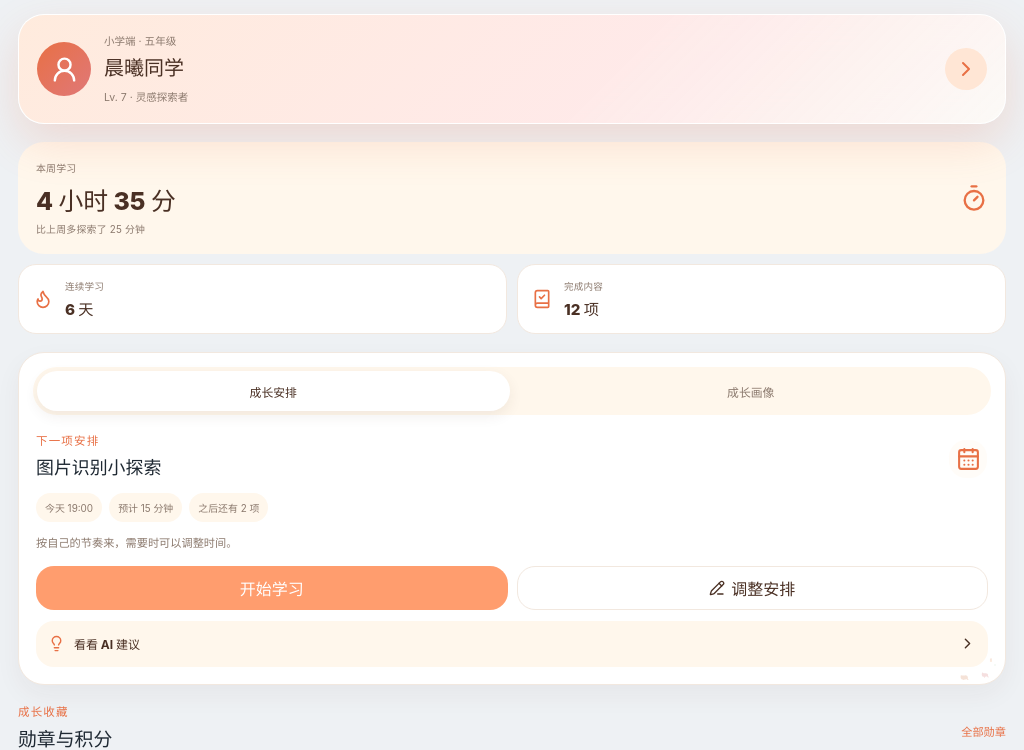
profile dashboard › contains every approved profile module in the agreed order
Check: the heading "晨曦同学" is shown, box [104, 56, 184, 80]
Check: the text "本周学习" is shown, box [36, 162, 76, 174]
Click the button "成长画像".
click(751, 391)  # box [514, 371, 987, 411]
(page scrolled)
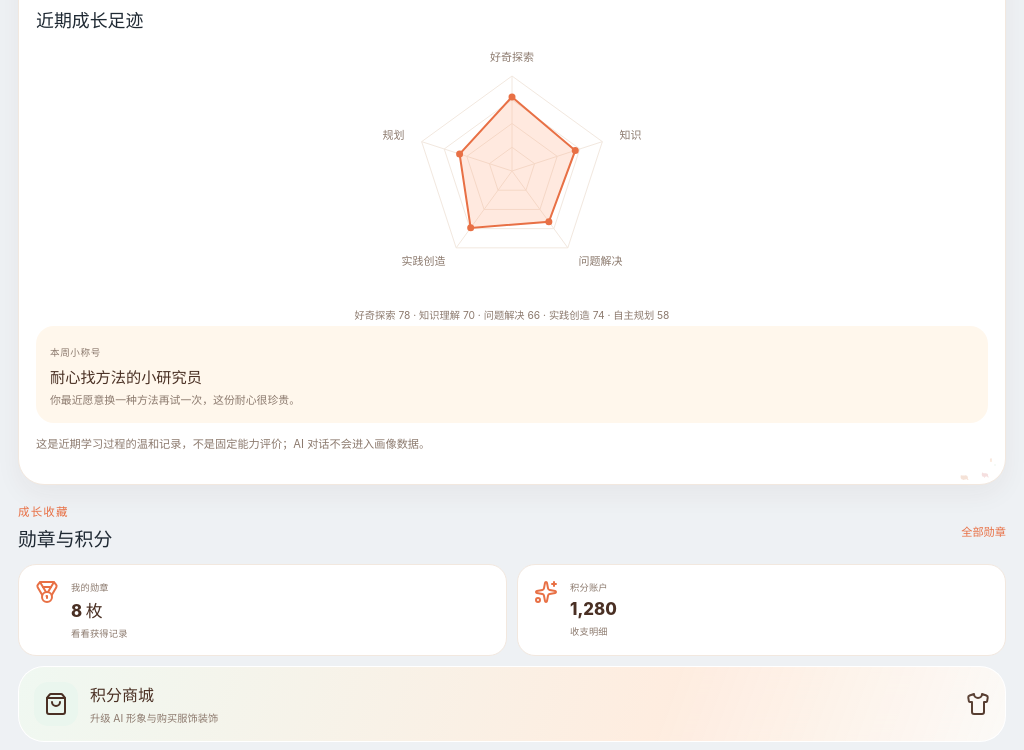
Check: the heading "近期成长足迹" is shown, box [36, 6, 150, 32]
Check: the picture named "近期成长足迹五维雷达图" is shown, box [382, 41, 642, 301]
Check: the text "耐心找方法的小研究员" is shown, box [50, 368, 202, 387]
